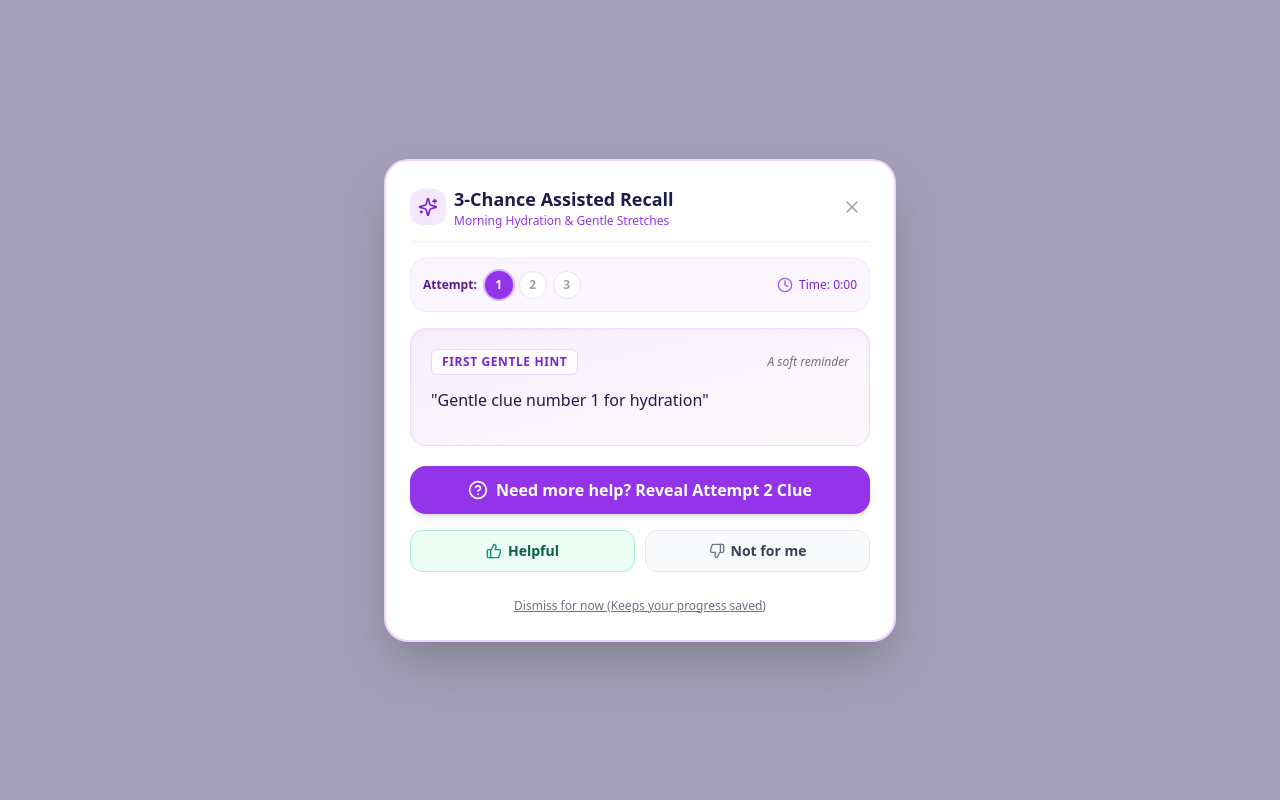
AssistanceTrayModal (3-Chance Assisted Recall) › advances through progressive assistance levels (1 -> 2 -> 3)
This screenshot has width=1280, height=800.
Click the button "Need more help? Reveal Attempt 2 Clue". click: (640, 490)
box: x1=410 y1=466 x2=870 y2=514
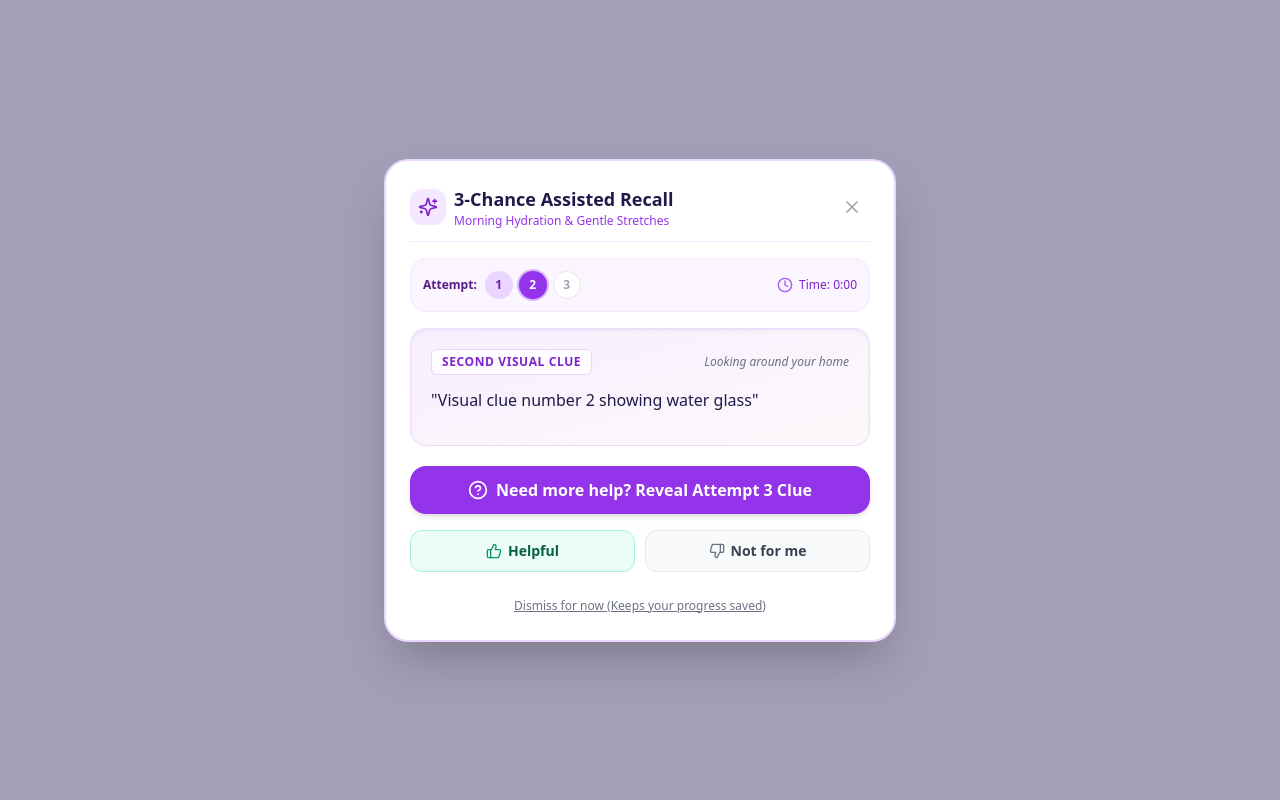
Now the text "\"Visual clue number 2 showing water glass\"" is shown, box x1=431 y1=388 x2=758 y2=410
// Advance to attempt 3
Click the button "Need more help? Reveal Attempt 3 Clue". click: (640, 490)
box: x1=410 y1=466 x2=870 y2=514
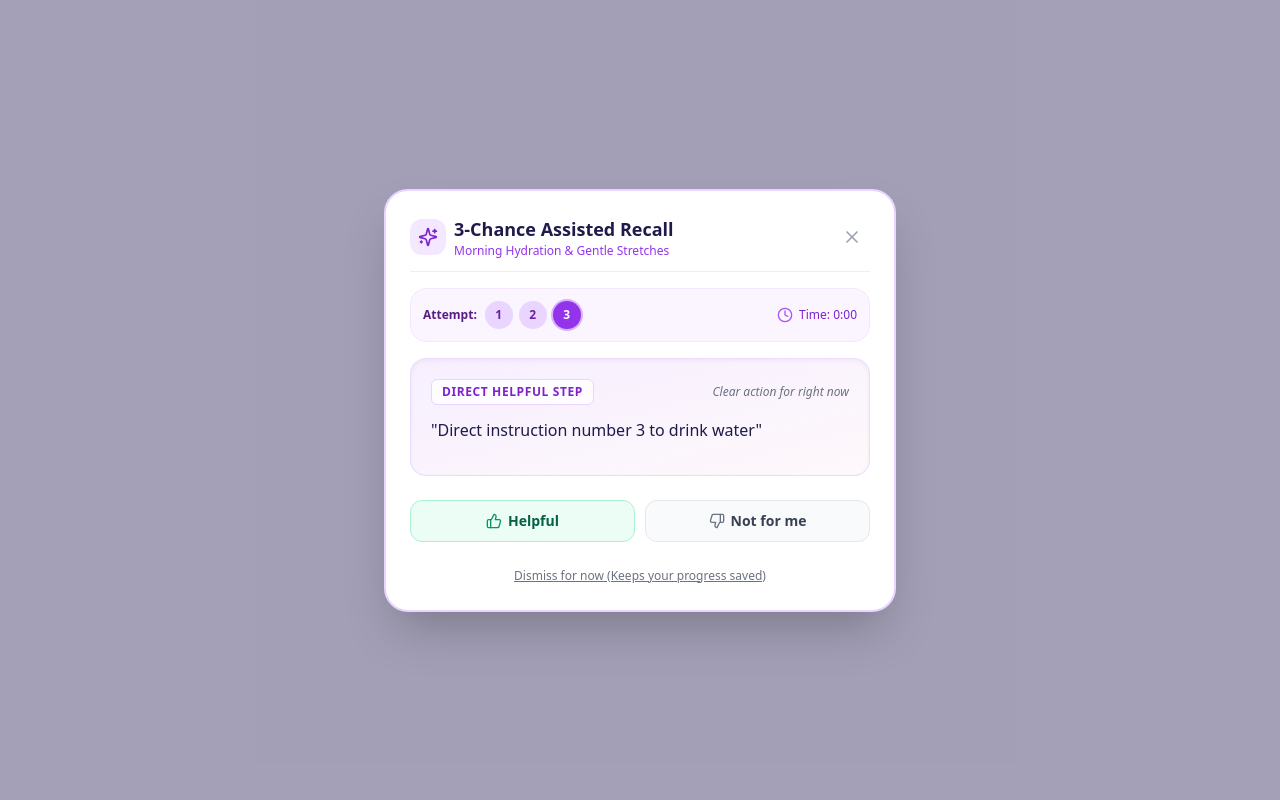
Now the text "\"Direct instruction number 3 to drink water\"" is shown, box x1=431 y1=418 x2=762 y2=440
